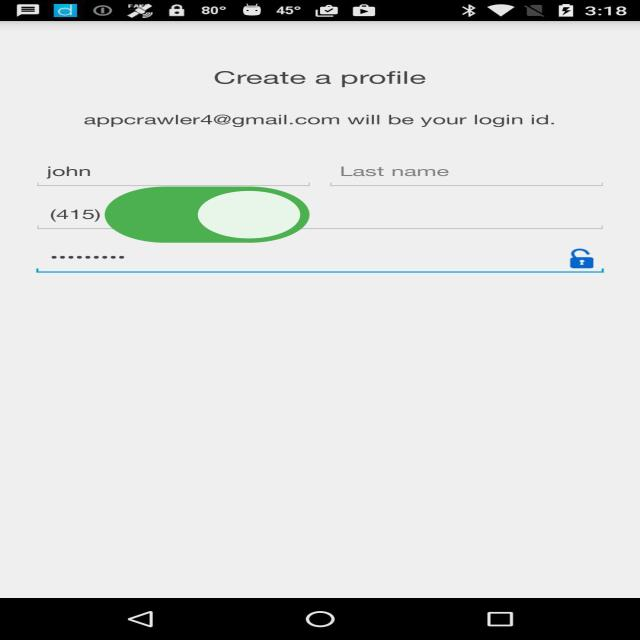social proof: (95, 165, 319, 269)
